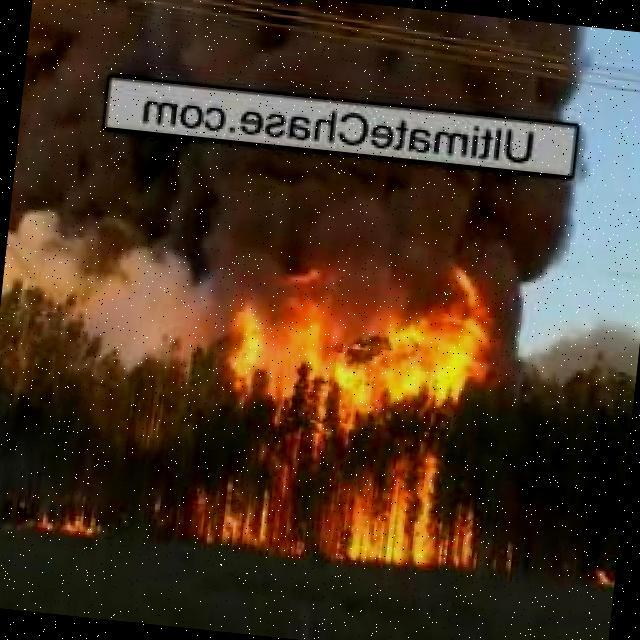Fire: (197, 245, 500, 573), (32, 496, 104, 536)
